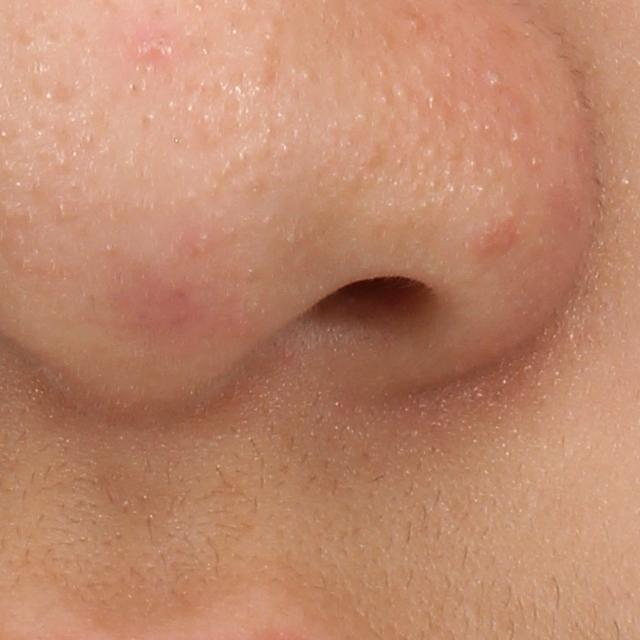comedo: (480, 63, 507, 92), (405, 12, 428, 42), (240, 172, 266, 197), (391, 80, 415, 107), (271, 134, 295, 161), (54, 147, 72, 178), (420, 141, 442, 165), (138, 109, 163, 130), (54, 193, 71, 222), (508, 124, 528, 147), (211, 158, 234, 178), (296, 62, 316, 84), (454, 95, 474, 116), (281, 228, 300, 249), (469, 181, 490, 199), (272, 111, 293, 129), (442, 181, 461, 199), (348, 110, 369, 126), (463, 155, 481, 173), (479, 162, 498, 179), (242, 264, 258, 284)
